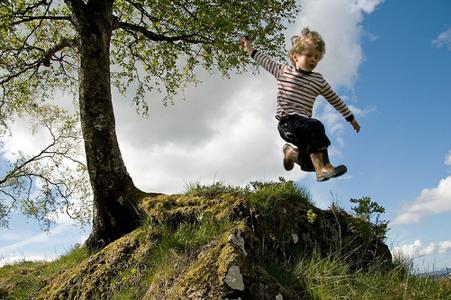person: (241, 29, 362, 183)
